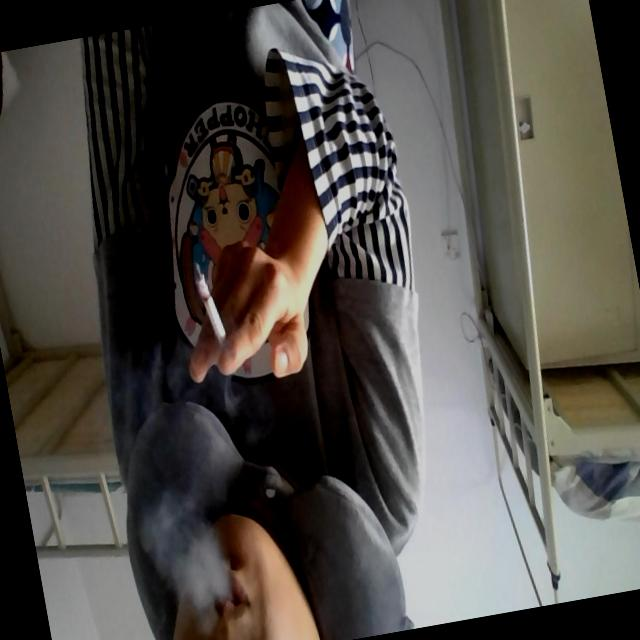smoke: (186, 254, 242, 375)
